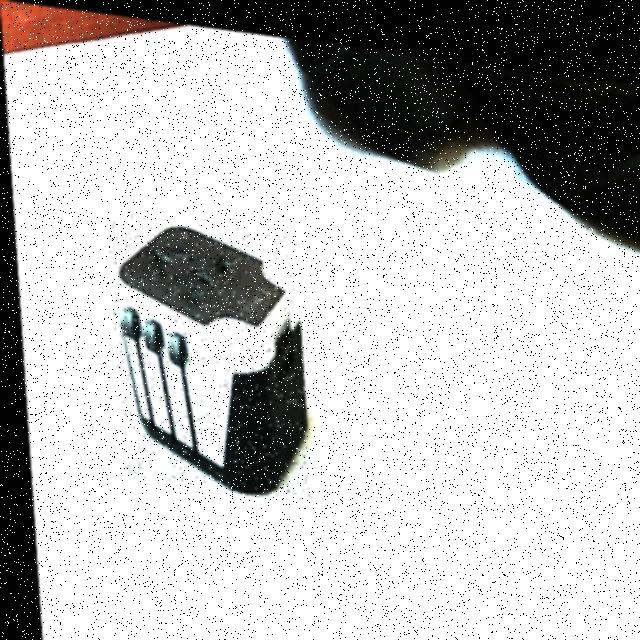adapter: (104, 208, 306, 494)
